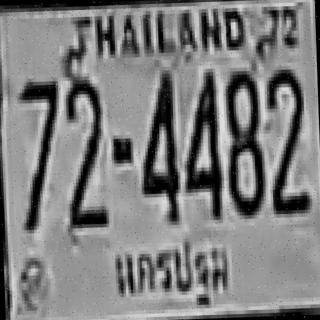N02: (263, 65, 307, 211), (64, 76, 105, 222), (264, 66, 306, 196), (64, 76, 104, 211)
N04: (138, 70, 179, 219), (180, 68, 221, 214)
N07: (16, 78, 61, 230), (17, 78, 60, 212), (16, 77, 59, 181)
N08: (222, 68, 264, 214)
P28: (109, 229, 233, 312)
